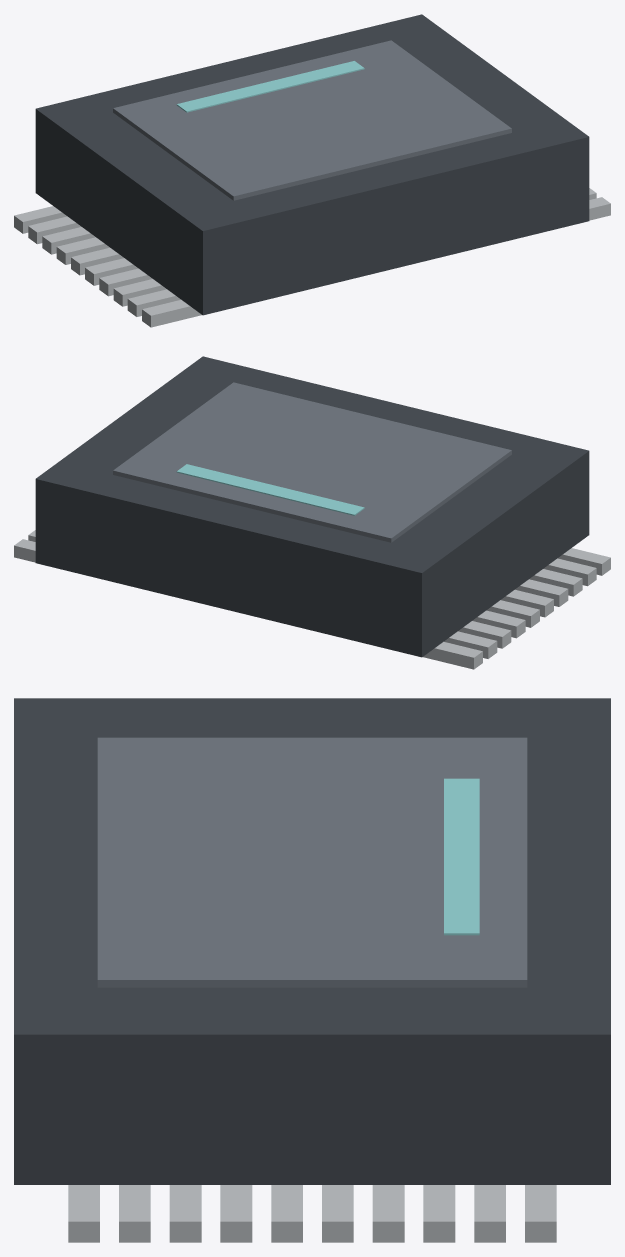
3 renders of one model, top to bottom at view 1: azimuth 30°, elevation 25°; view 2: azimuth 150°, elevation 25°; view 3: azimuth 270°, elevation 25°, orthographic. The views are drawn at different scales.
Visible parts, largest first — view 1: 000_Black_Epoxy__PSMAT__Black_Epoxy, 001_Silicon_Die__PSMAT__Silicon_Die, 002_Silkscreen_Cyan__PSMAT__Silkscreen_Cyan, 022_Solder_Tin__PSMAT__Solder_Tin, 020_Solder_Tin__PSMAT__Solder_Tin, 008_Solder_Tin__PSMAT__Solder_Tin, 010_Solder_Tin__PSMAT__Solder_Tin, 006_Solder_Tin__PSMAT__Solder_Tin, 014_Solder_Tin__PSMAT__Solder_Tin, 018_Solder_Tin__PSMAT__Solder_Tin, 016_Solder_Tin__PSMAT__Solder_Tin, 004_Solder_Tin__PSMAT__Solder_Tin (+1 smaller); view 2: 000_Black_Epoxy__PSMAT__Black_Epoxy, 001_Silicon_Die__PSMAT__Silicon_Die, 002_Silkscreen_Cyan__PSMAT__Silkscreen_Cyan, 004_Solder_Tin__PSMAT__Solder_Tin, 006_Solder_Tin__PSMAT__Solder_Tin, 016_Solder_Tin__PSMAT__Solder_Tin, 018_Solder_Tin__PSMAT__Solder_Tin, 020_Solder_Tin__PSMAT__Solder_Tin, 008_Solder_Tin__PSMAT__Solder_Tin, 012_Solder_Tin__PSMAT__Solder_Tin, 010_Solder_Tin__PSMAT__Solder_Tin, 022_Solder_Tin__PSMAT__Solder_Tin (+1 smaller); view 3: 000_Black_Epoxy__PSMAT__Black_Epoxy, 001_Silicon_Die__PSMAT__Silicon_Die, 002_Silkscreen_Cyan__PSMAT__Silkscreen_Cyan, 007_Solder_Tin__PSMAT__Solder_Tin, 009_Solder_Tin__PSMAT__Solder_Tin, 015_Solder_Tin__PSMAT__Solder_Tin, 017_Solder_Tin__PSMAT__Solder_Tin, 003_Solder_Tin__PSMAT__Solder_Tin, 005_Solder_Tin__PSMAT__Solder_Tin, 011_Solder_Tin__PSMAT__Solder_Tin, 013_Solder_Tin__PSMAT__Solder_Tin, 019_Solder_Tin__PSMAT__Solder_Tin (+1 smaller).
Boxes of the visible parts, <box> form: 000_Black_Epoxy__PSMAT__Black_Epoxy: <box>35,14,589,315</box>; 001_Silicon_Die__PSMAT__Silicon_Die: <box>113,40,511,200</box>; 002_Silkscreen_Cyan__PSMAT__Silkscreen_Cyan: <box>176,61,364,112</box>; 022_Solder_Tin__PSMAT__Solder_Tin: <box>142,299,201,327</box>; 020_Solder_Tin__PSMAT__Solder_Tin: <box>127,289,180,316</box>; 008_Solder_Tin__PSMAT__Solder_Tin: <box>42,227,95,254</box>; 010_Solder_Tin__PSMAT__Solder_Tin: <box>56,237,109,264</box>; 006_Solder_Tin__PSMAT__Solder_Tin: <box>28,216,81,244</box>; 014_Solder_Tin__PSMAT__Solder_Tin: <box>85,258,138,285</box>; 018_Solder_Tin__PSMAT__Solder_Tin: <box>113,279,166,306</box>; 016_Solder_Tin__PSMAT__Solder_Tin: <box>99,268,152,296</box>; 004_Solder_Tin__PSMAT__Solder_Tin: <box>14,206,66,233</box>; 000_Black_Epoxy__PSMAT__Black_Epoxy: <box>35,356,589,657</box>; 001_Silicon_Die__PSMAT__Silicon_Die: <box>113,382,511,542</box>; 002_Silkscreen_Cyan__PSMAT__Silkscreen_Cyan: <box>176,464,364,515</box>; 004_Solder_Tin__PSMAT__Solder_Tin: <box>423,641,482,669</box>; 006_Solder_Tin__PSMAT__Solder_Tin: <box>444,631,497,658</box>; 016_Solder_Tin__PSMAT__Solder_Tin: <box>515,579,568,606</box>; 018_Solder_Tin__PSMAT__Solder_Tin: <box>529,569,582,596</box>; 020_Solder_Tin__PSMAT__Solder_Tin: <box>543,558,596,586</box>; 008_Solder_Tin__PSMAT__Solder_Tin: <box>458,621,511,648</box>; 012_Solder_Tin__PSMAT__Solder_Tin: <box>486,600,539,627</box>; 010_Solder_Tin__PSMAT__Solder_Tin: <box>472,610,525,638</box>; 022_Solder_Tin__PSMAT__Solder_Tin: <box>558,548,610,575</box>; 000_Black_Epoxy__PSMAT__Black_Epoxy: <box>14,698,610,1184</box>; 001_Silicon_Die__PSMAT__Silicon_Die: <box>97,737,527,987</box>; 002_Silkscreen_Cyan__PSMAT__Silkscreen_Cyan: <box>444,778,479,935</box>; 007_Solder_Tin__PSMAT__Solder_Tin: <box>423,1185,455,1242</box>; 009_Solder_Tin__PSMAT__Solder_Tin: <box>372,1185,404,1242</box>; 015_Solder_Tin__PSMAT__Solder_Tin: <box>220,1185,252,1242</box>; 017_Solder_Tin__PSMAT__Solder_Tin: <box>169,1185,201,1242</box>; 003_Solder_Tin__PSMAT__Solder_Tin: <box>525,1185,556,1242</box>; 005_Solder_Tin__PSMAT__Solder_Tin: <box>474,1185,505,1242</box>; 011_Solder_Tin__PSMAT__Solder_Tin: <box>322,1185,353,1242</box>; 013_Solder_Tin__PSMAT__Solder_Tin: <box>271,1185,302,1242</box>; 019_Solder_Tin__PSMAT__Solder_Tin: <box>119,1185,150,1242</box>.
Bounding box in the file's own units: 0.0143 × 0.0031 × 0.009.
